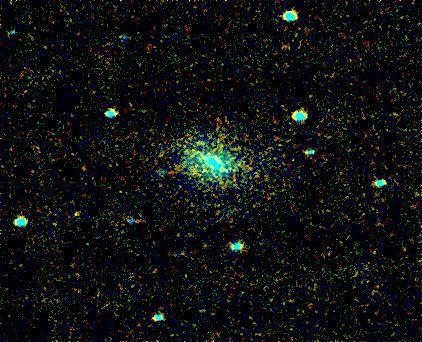star: (38, 208, 68, 238)
